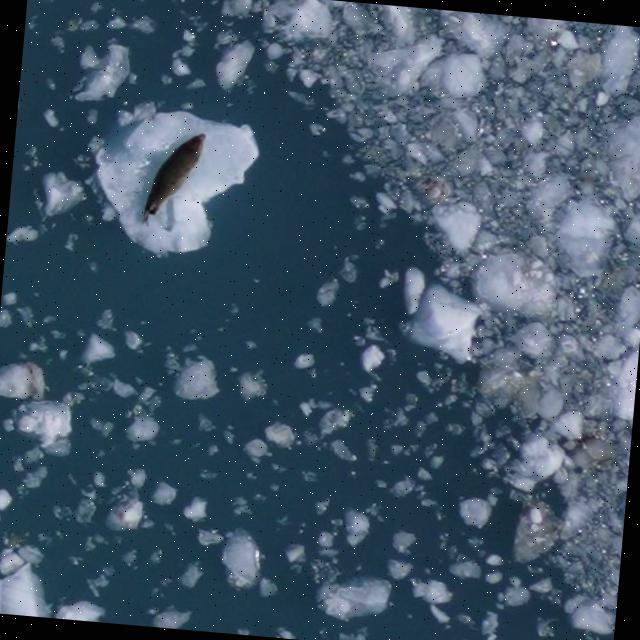seal: (123, 122, 219, 228)
